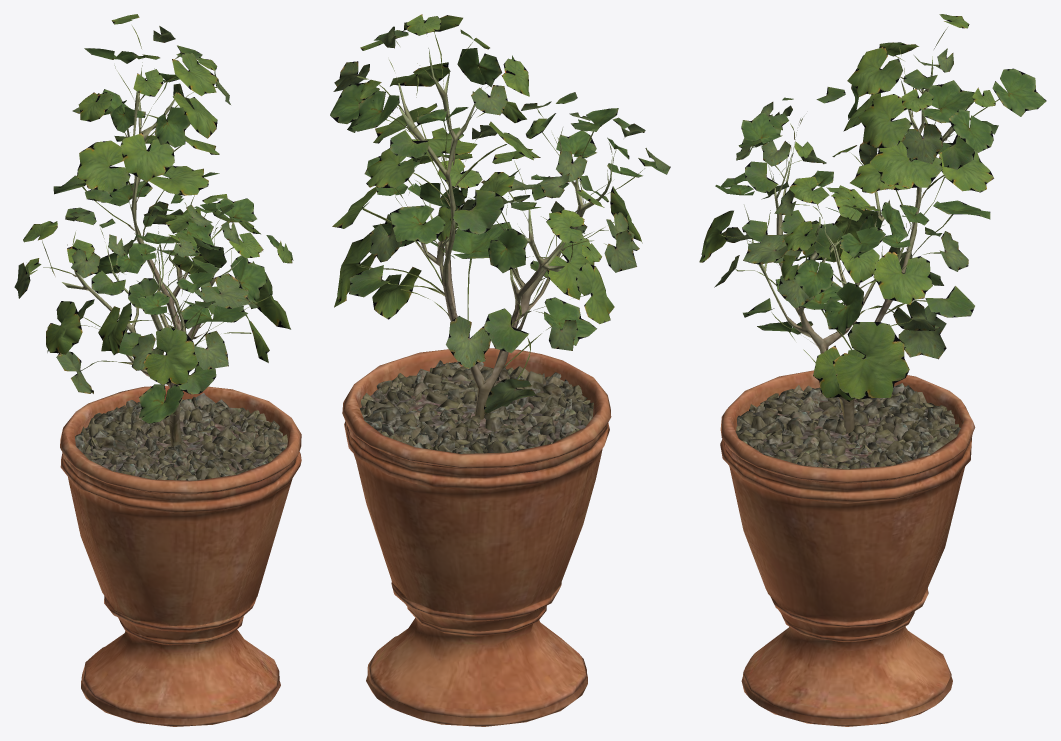
File: potted_plant_01.lod1.glb
3 renders of one model, left to right at view 1: azimuth 30°, elevation 25°; view 2: azimuth 150°, elevation 25°; view 3: azimuth 270°, elevation 25°, orthographic. The views are drawn at different scales.
Visible parts, largest first — view 1: potted_plant_01_pot, potted_plant_01_leaves, potted_plant_01_pebbles, potted_plant_01_stem; view 2: potted_plant_01_pot, potted_plant_01_leaves, potted_plant_01_pebbles, potted_plant_01_stem; view 3: potted_plant_01_pot, potted_plant_01_leaves, potted_plant_01_pebbles, potted_plant_01_stem.
Boxes of the visible parts, x1,y1,x2,y2 form: potted_plant_01_pot: (60,385,301,726); potted_plant_01_leaves: (14,14,293,423); potted_plant_01_pebbles: (68,393,287,480); potted_plant_01_stem: (62,62,242,445); potted_plant_01_pot: (342,348,611,726); potted_plant_01_leaves: (330,14,670,414); potted_plant_01_pebbles: (360,360,593,456); potted_plant_01_stem: (398,48,612,419); potted_plant_01_pot: (720,370,975,726); potted_plant_01_leaves: (699,14,1046,401); potted_plant_01_pebbles: (735,383,960,469); potted_plant_01_stem: (752,56,965,433).
Size of the model in its own units: 0.5858 by 1.34 by 0.6332.
Materials: 2 (2 with a texture image).
